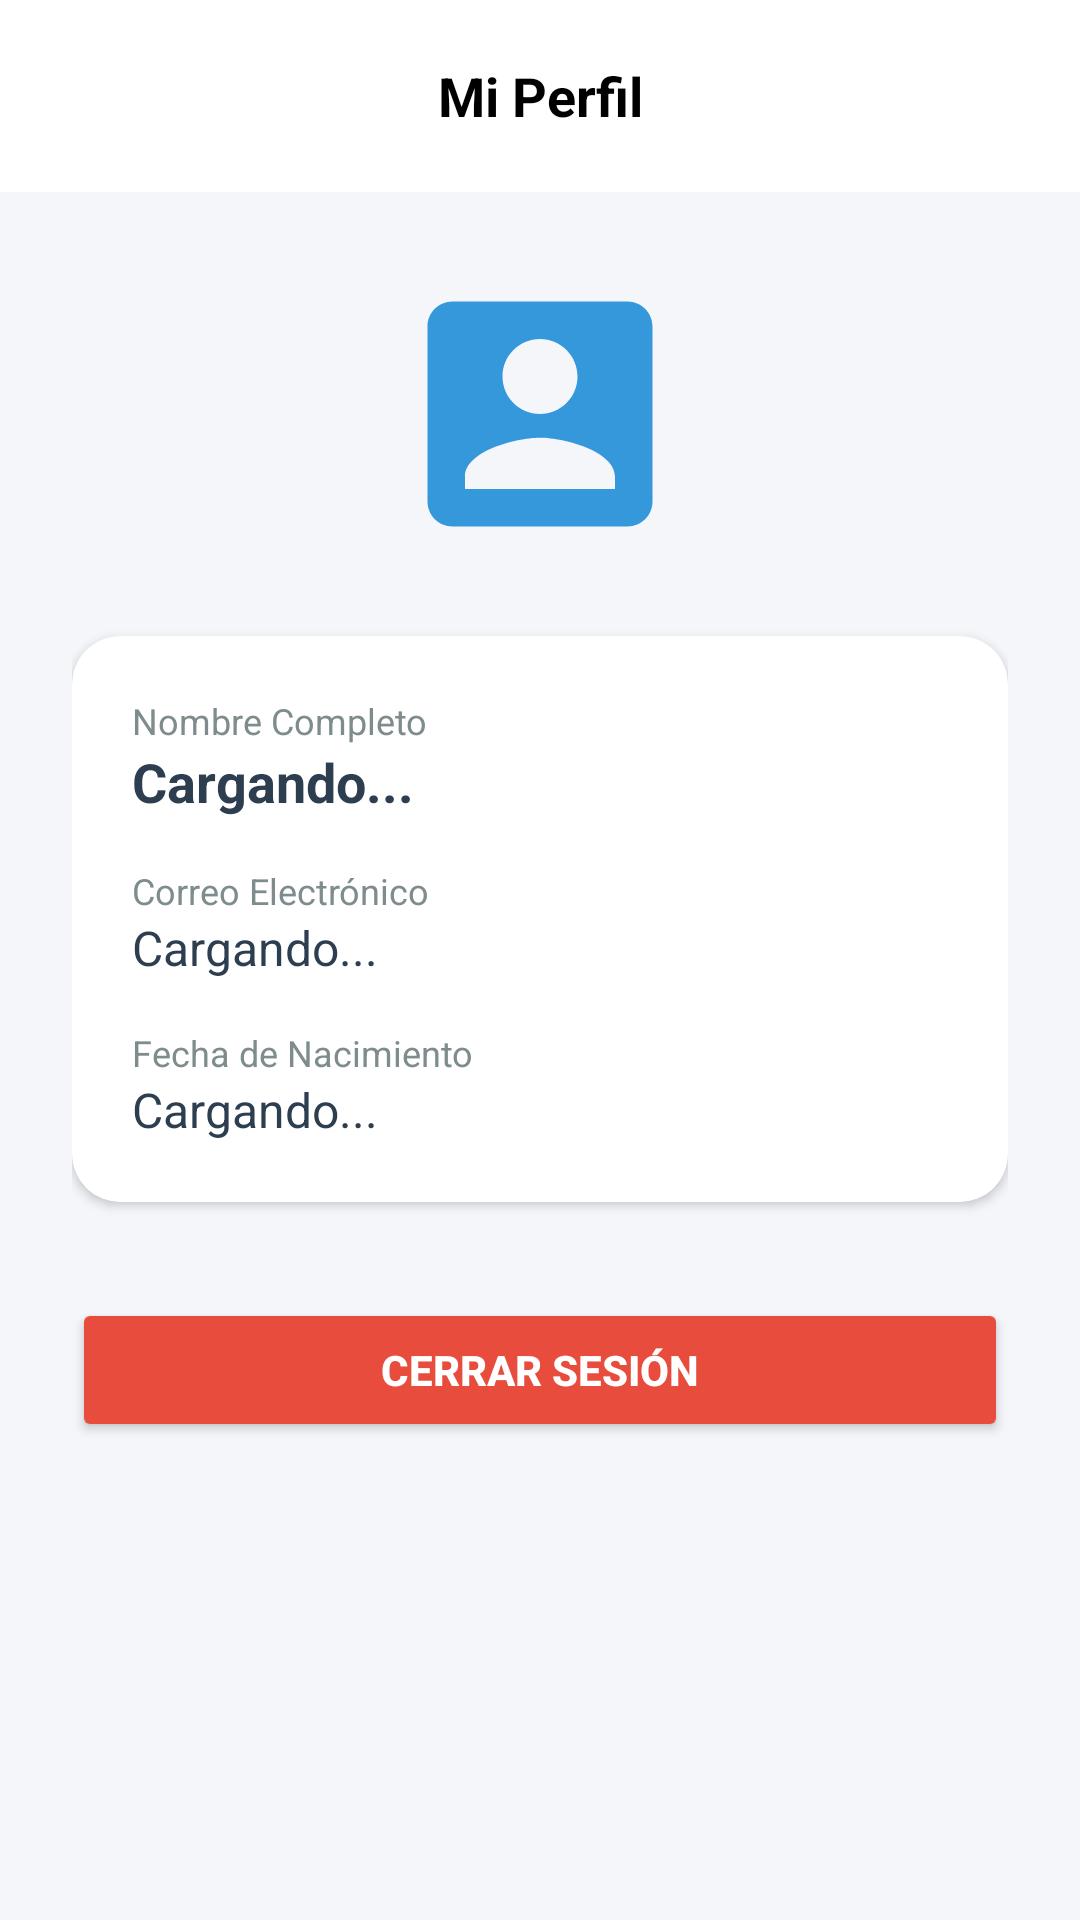

Where icons sit on this 1080 x 1920 app screen, as (x1, y1, x2, y2):
account box: (427, 301, 653, 527)
